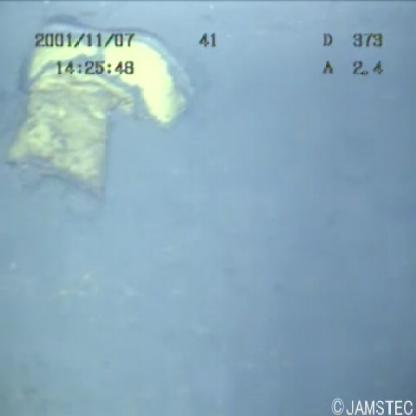Rác: (1, 2, 207, 213)
